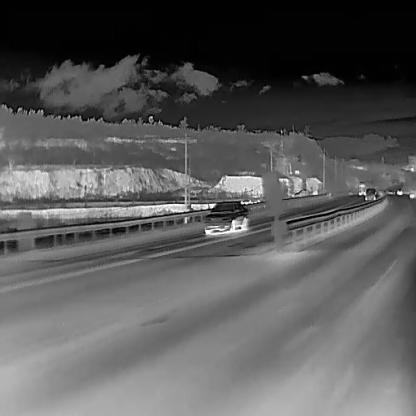car: (202, 200, 249, 236), (363, 187, 376, 201), (293, 188, 310, 198), (357, 180, 367, 196), (409, 188, 416, 198), (396, 187, 403, 195), (387, 189, 393, 194)
